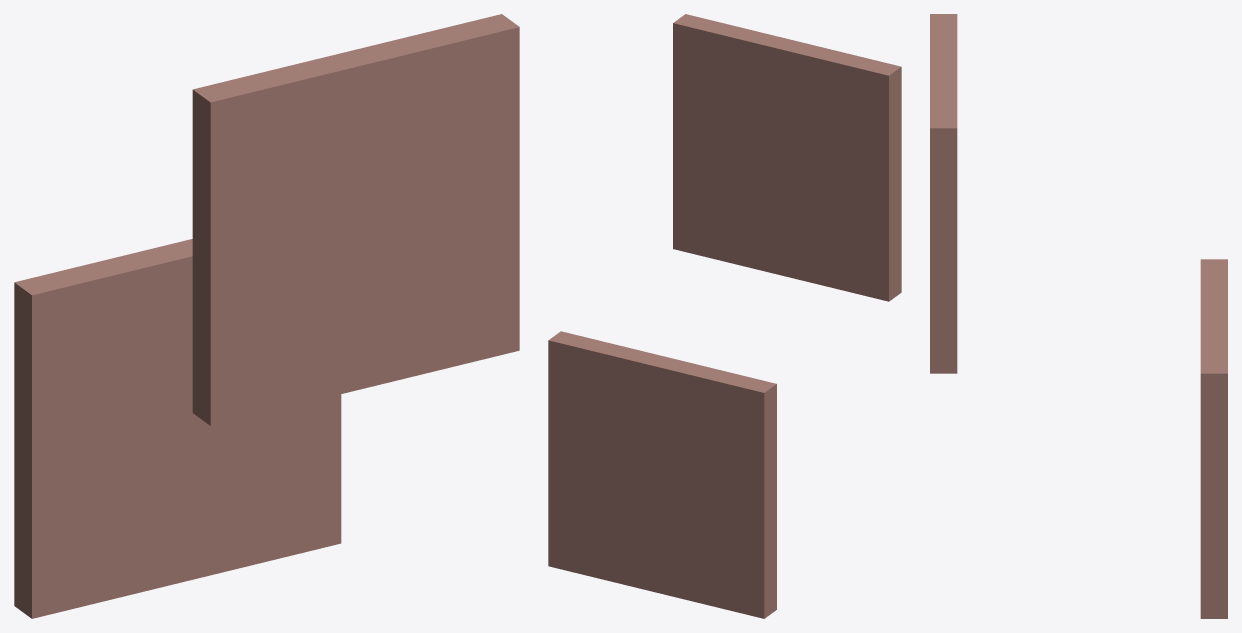
File: scar_chin_split.glb
The picture shows the model from 3 angles, left to right: view 1: azimuth 30°, elevation 25°; view 2: azimuth 150°, elevation 25°; view 3: azimuth 270°, elevation 25°; orthographic projection. The views are drawn at different scales.
Visible parts, largest first — view 1: scar_chin_split; view 2: scar_chin_split; view 3: scar_chin_split.
Part boxes in pixels (bbox=[...]): scar_chin_split: bbox=[14, 14, 519, 618]; scar_chin_split: bbox=[548, 14, 901, 618]; scar_chin_split: bbox=[930, 14, 1227, 618].
Bounding box in the file's own units: 0.125 × 0.25 × 0.1375.
